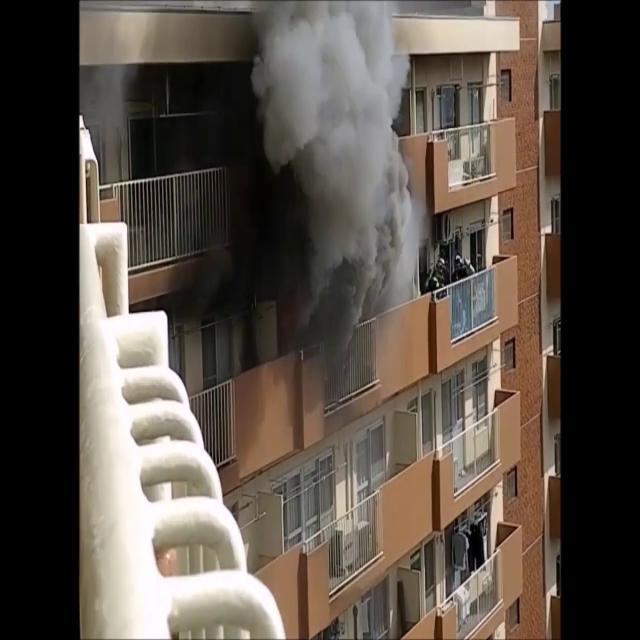Smoke: (194, 1, 422, 458)
